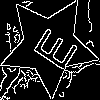E: (24, 20, 79, 73)
